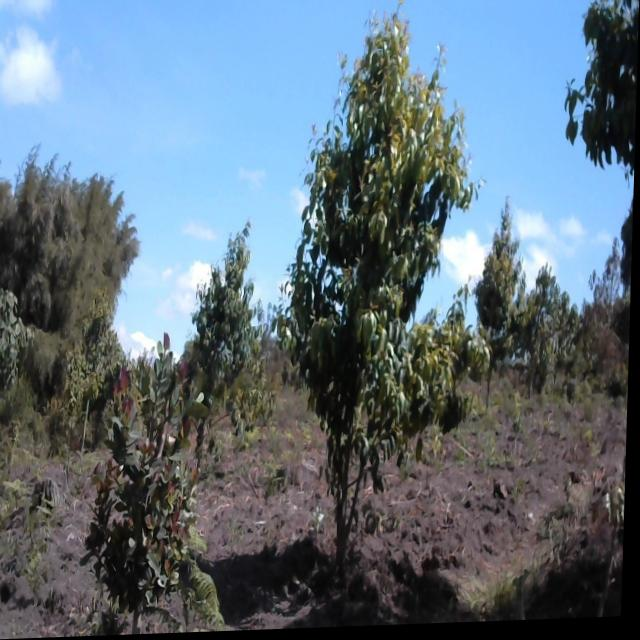Lemon Myrtle: (267, 5, 508, 605), (190, 210, 266, 427), (471, 200, 541, 403)
other: (86, 351, 219, 637), (0, 269, 45, 383)
